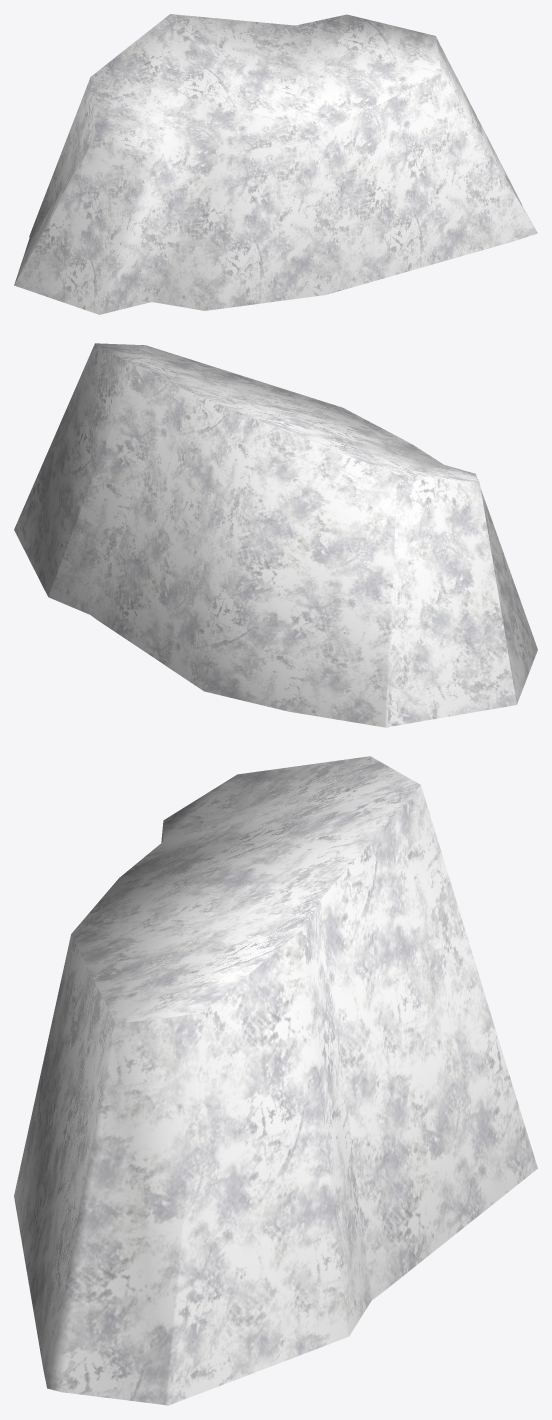
The model's file is rock_2.dae.
3 renders of one model, top to bottom at view 1: azimuth 30°, elevation 25°; view 2: azimuth 150°, elevation 25°; view 3: azimuth 270°, elevation 25°, orthographic. The views are drawn at different scales.
Visible parts, largest first — view 1: Group1; view 2: Group1; view 3: Group1.
Part boxes in pixels (box(x1,y1,x2,y2)): Group1: box(14, 14, 537, 314); Group1: box(14, 343, 537, 727); Group1: box(14, 756, 537, 1405).
Bounding box in the file's own units: 440 × 240 × 189.
